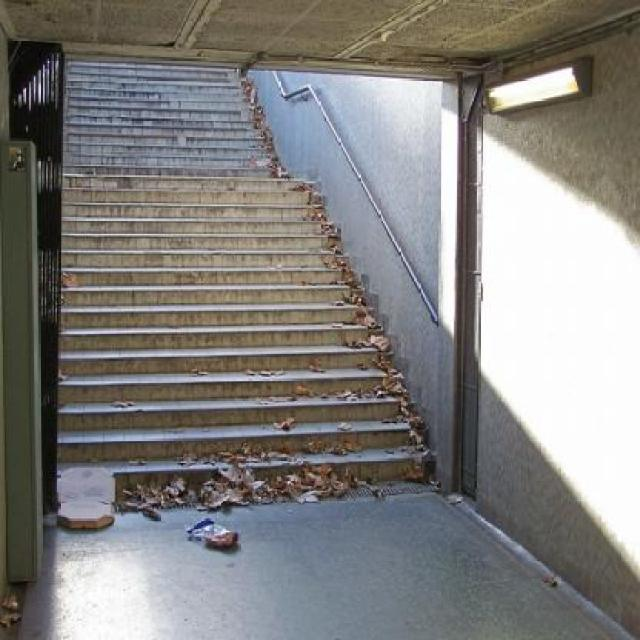stair: (54, 66, 443, 509)
